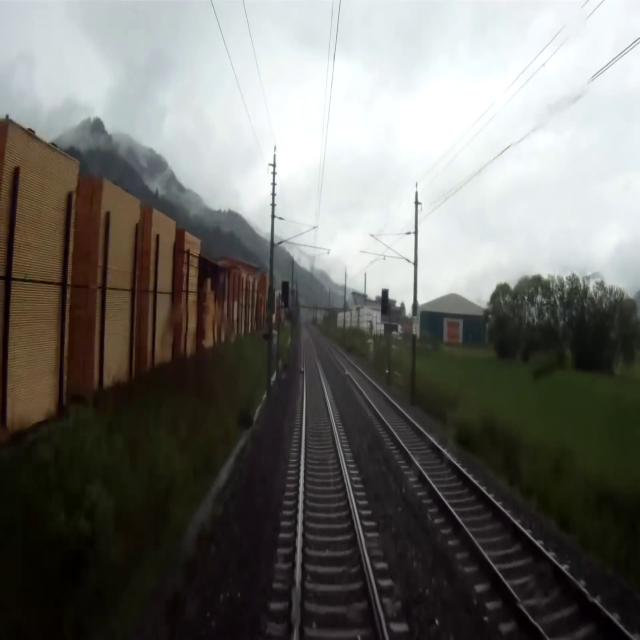rail-track: (321, 332, 629, 639), (298, 330, 385, 639)
